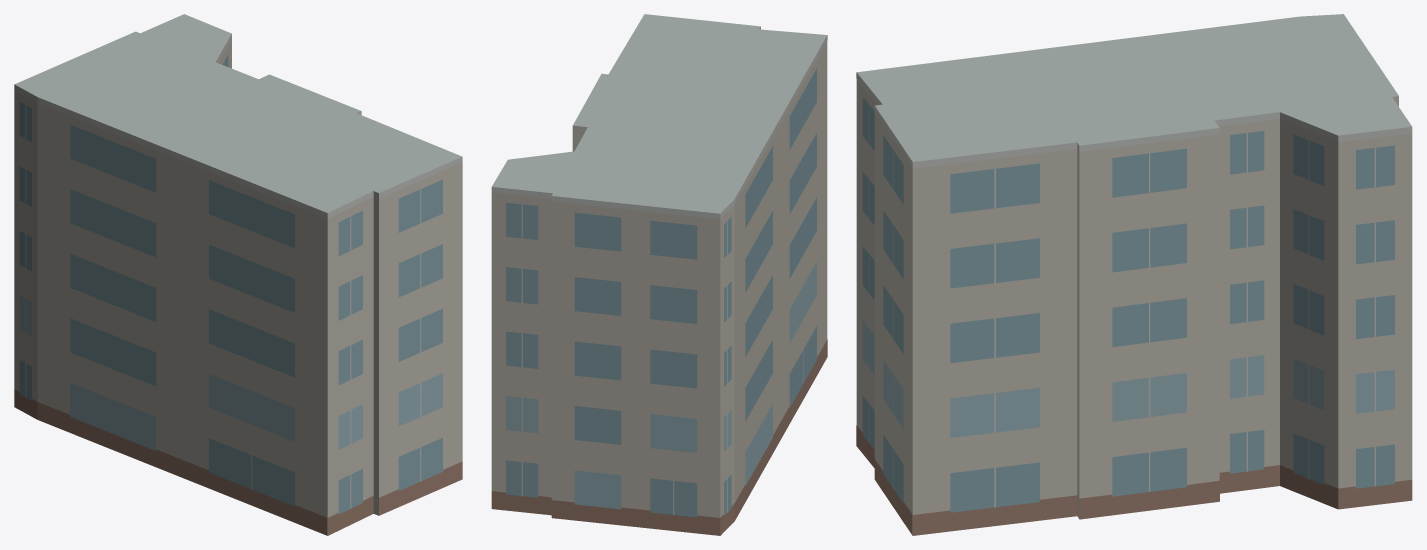
Rendered from survey-upis-32656465.glb.
3 views of the same model, side by side, from view 1: azimuth 30°, elevation 25°; view 2: azimuth 150°, elevation 25°; view 3: azimuth 270°, elevation 25° (orthographic). The views are drawn at different scales.
Parts seen in each view (by area): view 1: survey-upis-32656465.tmp; view 2: survey-upis-32656465.tmp; view 3: survey-upis-32656465.tmp.
Part boxes in pixels (x1,y1,x2,y2): survey-upis-32656465.tmp: (14, 14, 462, 535); survey-upis-32656465.tmp: (491, 14, 827, 535); survey-upis-32656465.tmp: (856, 14, 1412, 535).
Bounding box in the file's own units: 11.91 × 14 × 18.88.
